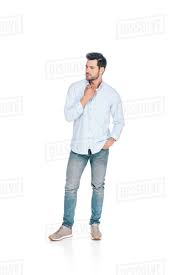standing: (47, 49, 117, 247)
